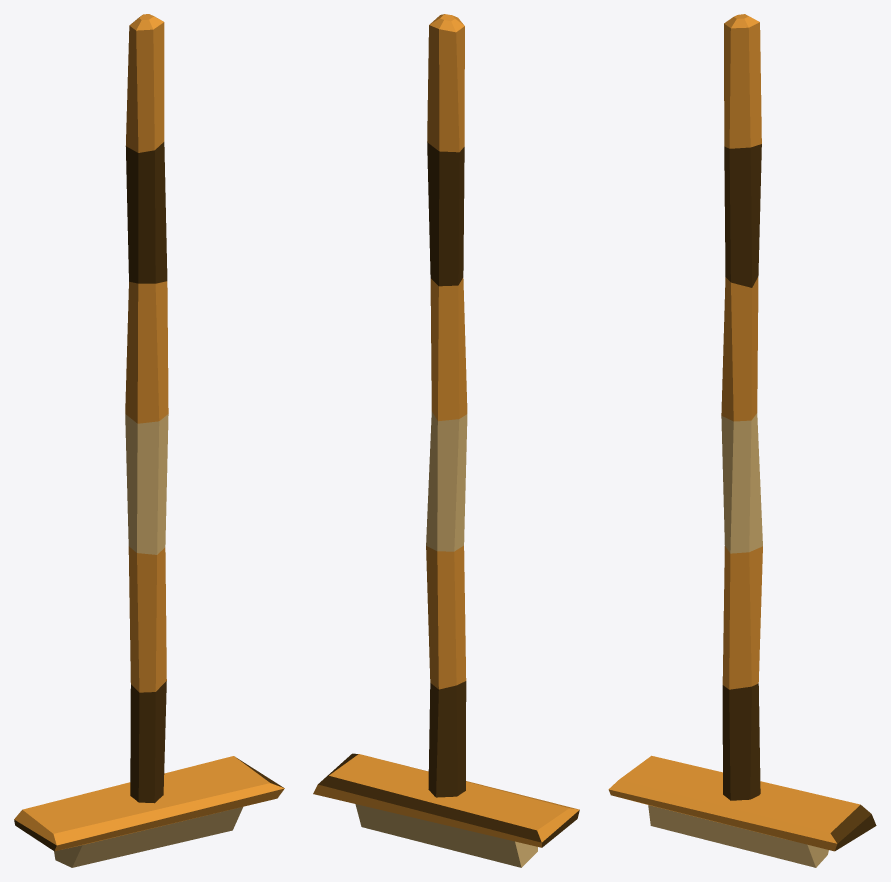
File: Broom.fbx
The picture shows the model from 3 angles, left to right: view 1: azimuth 30°, elevation 25°; view 2: azimuth 150°, elevation 25°; view 3: azimuth 330°, elevation 25°; orthographic projection.
Parts seen in each view (by area): view 1: Broom; view 2: Broom; view 3: Broom.
Part boxes in pixels (box(x1,y1,x2,y2)): Broom: box(14, 14, 284, 867); Broom: box(313, 14, 579, 867); Broom: box(608, 14, 876, 867).
Bounding box in the file's own units: 43.28 × 149 × 13.16.
